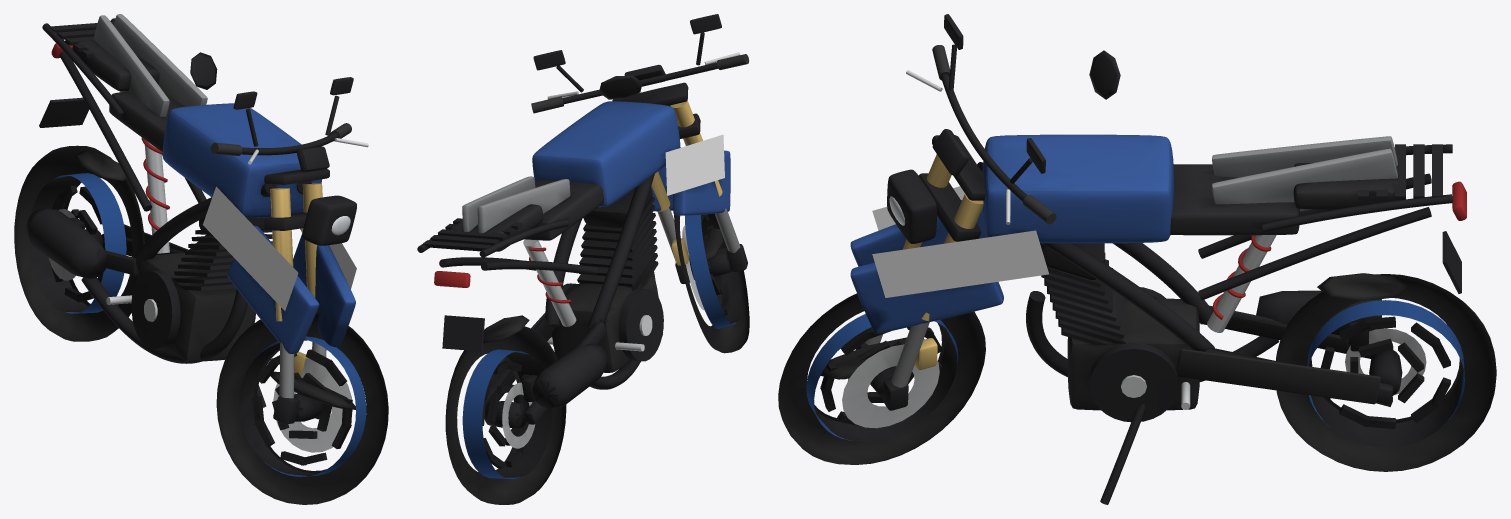
The model's file is hornet.glb.
3 renders of one model, left to right at view 1: azimuth 30°, elevation 25°; view 2: azimuth 150°, elevation 25°; view 3: azimuth 270°, elevation 25°, orthographic. The views are drawn at different scales.
Visible parts, largest first — view 1: rubber, black, blue, matte_black, grey, decal_R, seat, steel, gold, taillight, decal_L; view 2: black, rubber, blue, matte_black, grey, seat, steel, decal_R, gold, taillight; view 3: rubber, black, blue, matte_black, grey, seat, decal_L, steel, gold, taillight.
Part boxes in pixels (<box>): rubber: <box>14,123,388,504</box>; black: <box>26,18,356,424</box>; blue: <box>162,103,355,353</box>; matte_black: <box>74,150,355,409</box>; grey: <box>93,14,207,116</box>; decal_R: <box>203,186,298,310</box>; seat: <box>72,39,185,151</box>; steel: <box>106,138,368,398</box>; gold: <box>270,183,322,321</box>; taillight: <box>51,43,169,230</box>; decal_L: <box>300,228,356,289</box>; black: <box>417,14,747,424</box>; rubber: <box>445,54,749,504</box>; blue: <box>532,101,730,215</box>; matte_black: <box>483,228,723,384</box>; grey: <box>462,176,570,233</box>; seat: <box>450,180,603,251</box>; steel: <box>523,52,740,351</box>; decal_R: <box>665,134,724,195</box>; gold: <box>651,100,722,211</box>; taillight: <box>434,247,571,303</box>; rubber: <box>778,45,1496,471</box>; black: <box>856,14,1461,504</box>; blue: <box>850,134,1174,333</box>; matte_black: <box>820,273,1409,410</box>; grey: <box>1212,136,1397,211</box>; seat: <box>1170,156,1399,235</box>; decal_L: <box>872,230,1048,297</box>; steel: <box>865,70,1276,409</box>; gold: <box>903,154,983,321</box>; taillight: <box>1212,181,1466,319</box>.
Size of the model in its own units: 0.6593 by 1.31 by 1.94.
